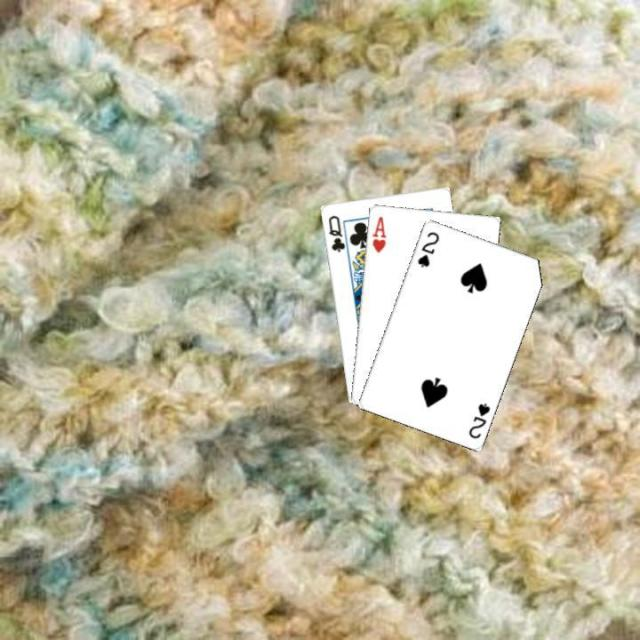2S: (413, 228, 441, 270), (465, 399, 491, 440)
AH: (368, 212, 388, 255)
QC: (324, 212, 346, 254)
